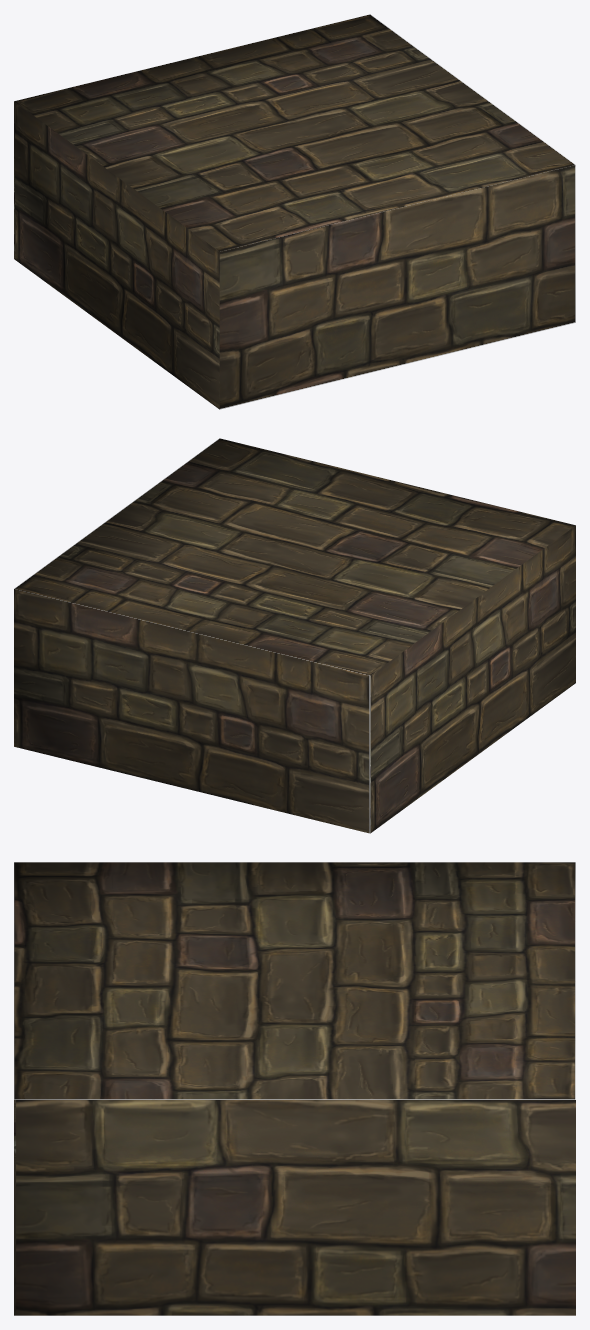
Rendered from floor_raised_tile.fbx.
3 renders of one model, top to bottom at view 1: azimuth 30°, elevation 25°; view 2: azimuth 150°, elevation 25°; view 3: azimuth 270°, elevation 25°, orthographic. The views are drawn at different scales.
Visible parts, largest first — view 1: floor_tile_001; view 2: floor_tile_001; view 3: floor_tile_001.
Boxes of the visible parts, bbox=[...] form: floor_tile_001: bbox=[14, 14, 575, 409]; floor_tile_001: bbox=[14, 438, 575, 833]; floor_tile_001: bbox=[14, 862, 575, 1315].
Size of the model in its own units: 40 by 16.93 by 40.
